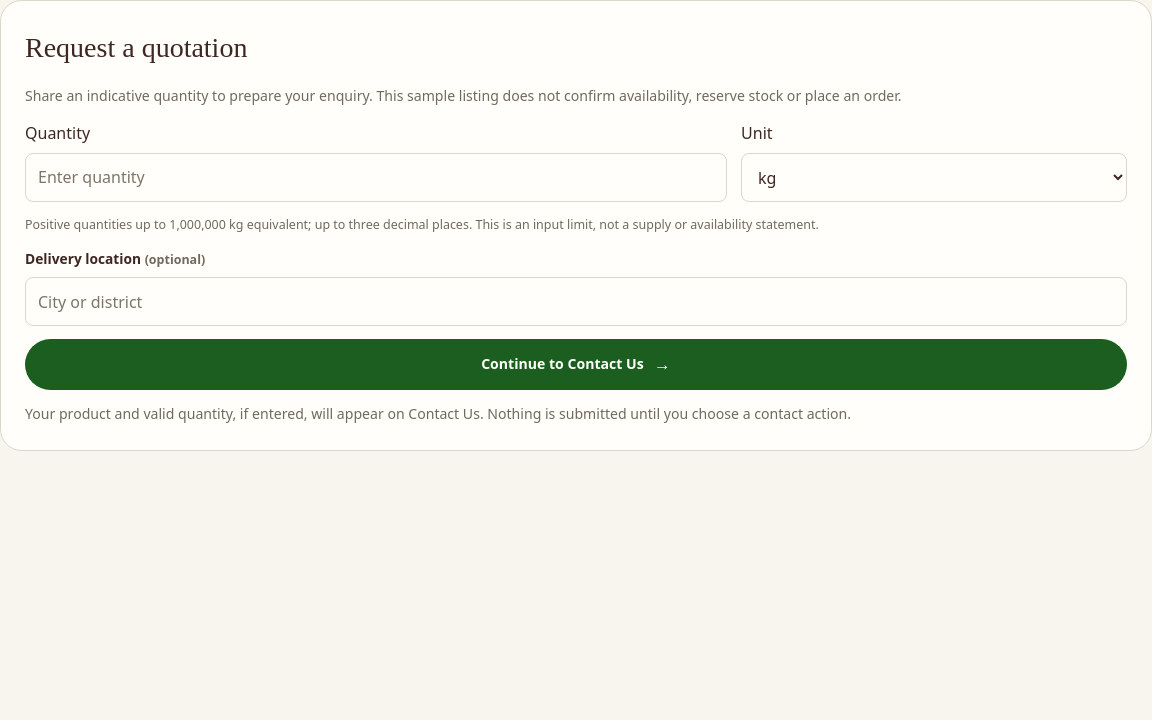
Test: shop page › converts an enquiry quantity and rejects zero in the form
Type "1" into the field labelled "Quantity" at (376, 177), box [25,153,727,202]
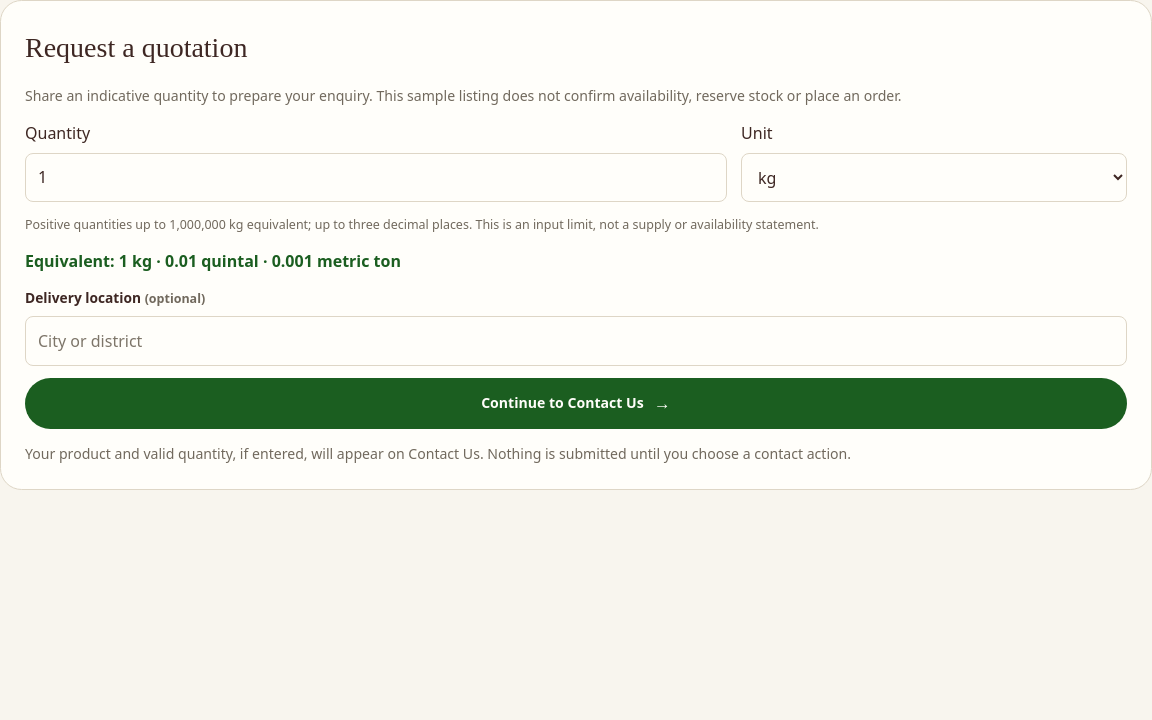
Select "quintal" in the dropdown labelled "Unit" at (934, 178), box [741,153,1127,202]
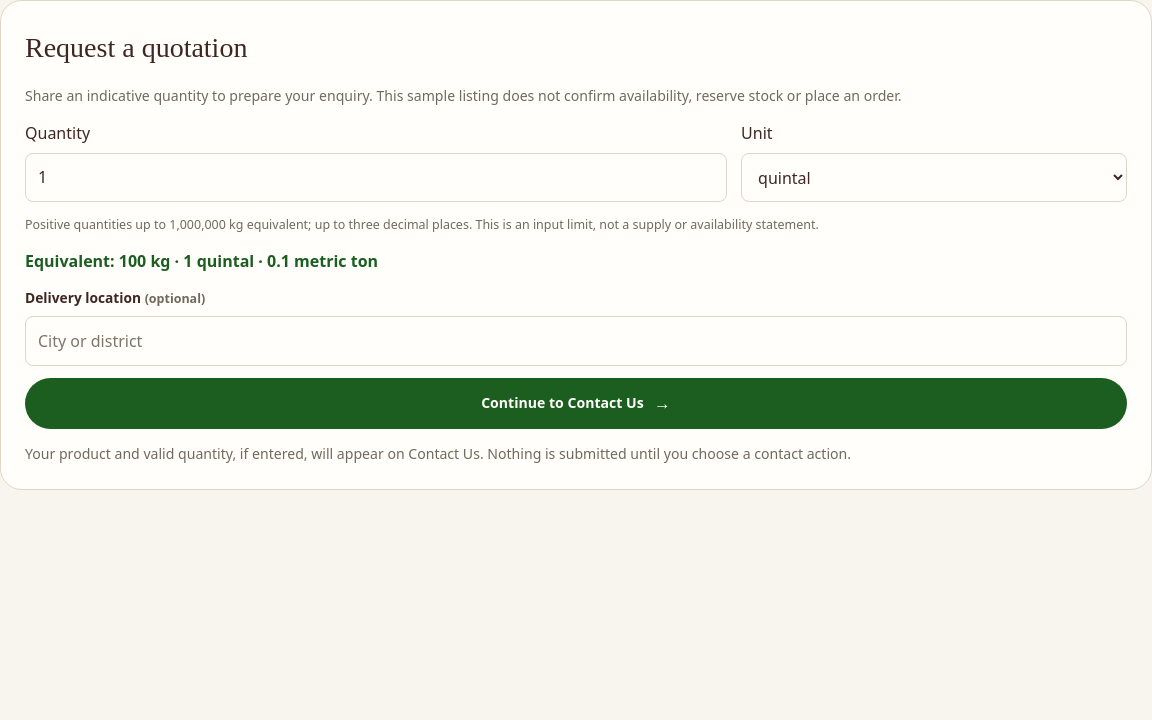
Now the text "Equivalent: 100 kg · 1 quintal · 0.1 metric ton" is shown, box [25,250,378,272]
Replace the text in the field labelled "Quantity" with "0" at (376, 177), box [25,153,727,202]
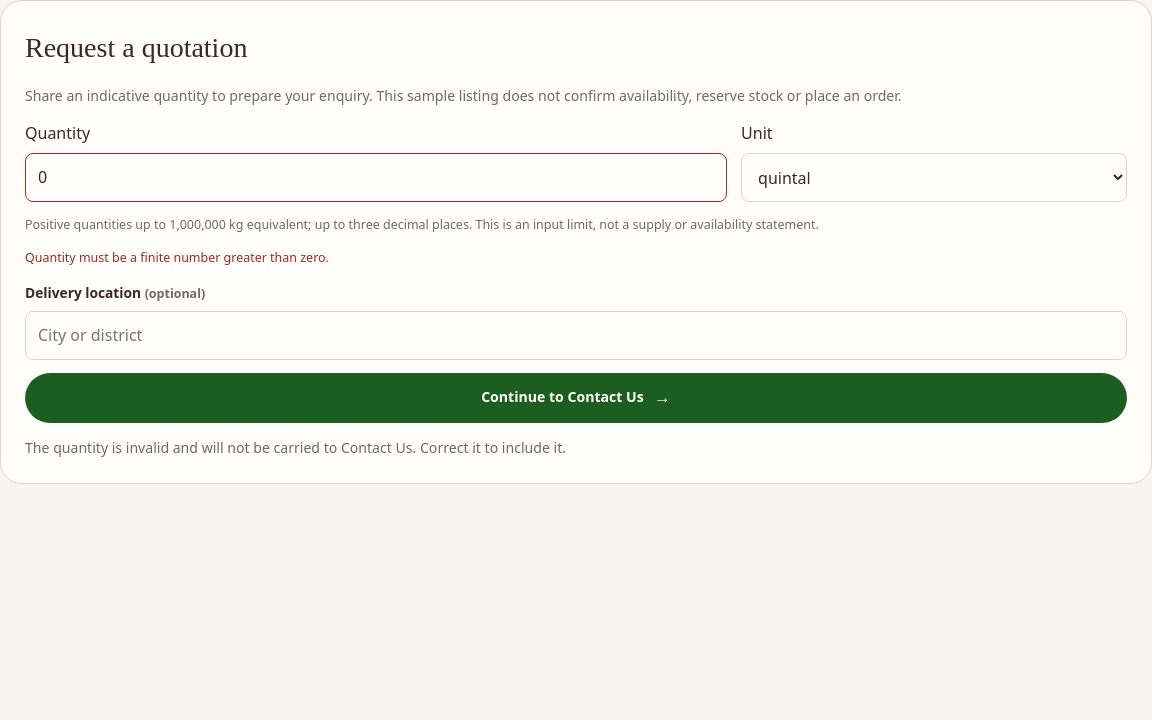
Now the message shows "greater than zero", box [25,249,329,266]
